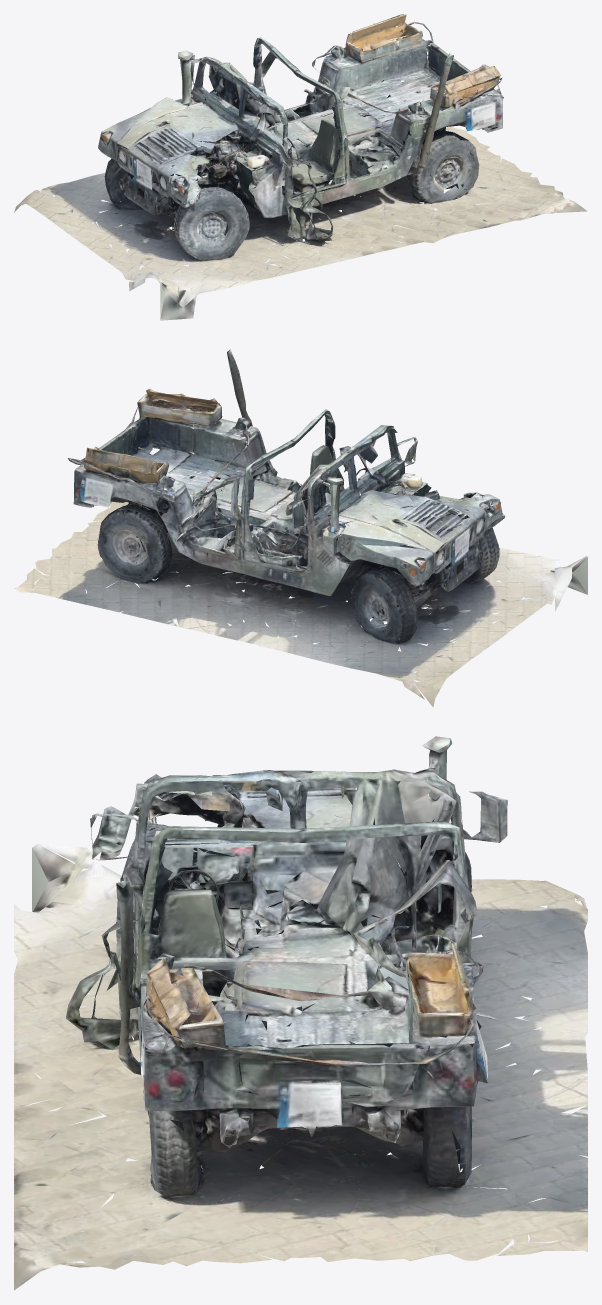
Rendered from humvee-wreck.glb.
The picture shows the model from 3 angles, top to bottom: view 1: azimuth 30°, elevation 25°; view 2: azimuth 150°, elevation 25°; view 3: azimuth 270°, elevation 25°; orthographic projection. The views are drawn at different scales.
Parts seen in each view (by area): view 1: Object_2, Object_3; view 2: Object_2, Object_3; view 3: Object_2, Object_3.
Part boxes in pixels (bbox=[...]): Object_2: bbox=[14, 14, 573, 307]; Object_3: bbox=[22, 32, 587, 320]; Object_2: bbox=[14, 349, 585, 707]; Object_3: bbox=[18, 384, 587, 699]; Object_2: bbox=[14, 736, 587, 1271]; Object_3: bbox=[14, 759, 587, 1290].
Size of the model in its own units: 5.48 by 2.15 by 3.39.
Materials: 1 (1 with a texture image).
